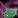with_mask: (2, 2, 18, 18)
